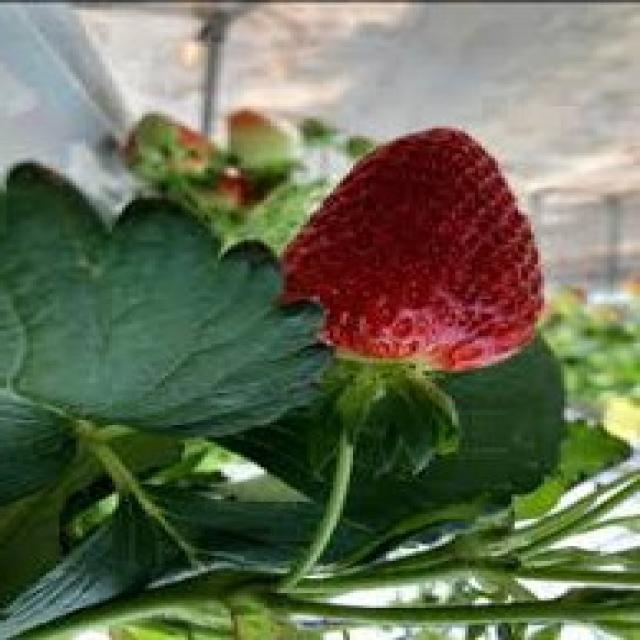mature: (277, 126, 543, 375)
